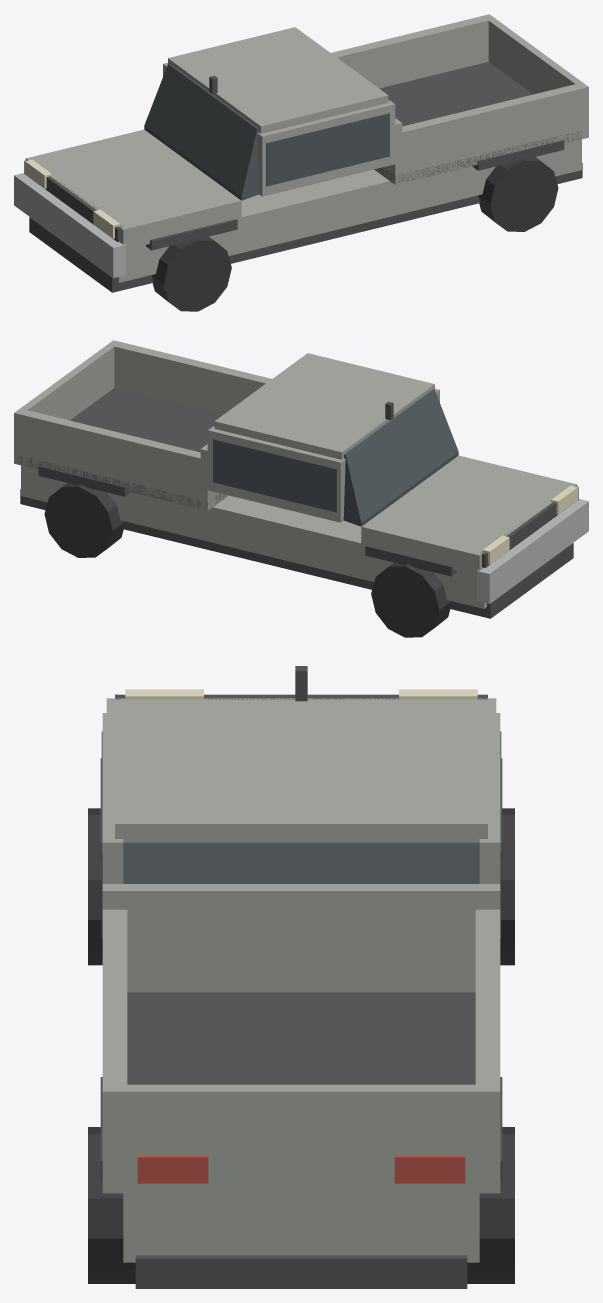
File: car_pickup.glb
3 renders of one model, top to bottom at view 1: azimuth 30°, elevation 25°; view 2: azimuth 150°, elevation 25°; view 3: azimuth 270°, elevation 25°, orthographic. The views are drawn at different scales.
Parts seen in each view (by area): view 1: NC_car_pickup; view 2: NC_car_pickup; view 3: NC_car_pickup.
Part boxes in pixels (x1,y1,x2,y2): NC_car_pickup: (14,14,588,311); NC_car_pickup: (14,340,588,637); NC_car_pickup: (88,666,514,1288).
Bounding box in the file's own units: 5.32 × 1.9 × 2.06.
